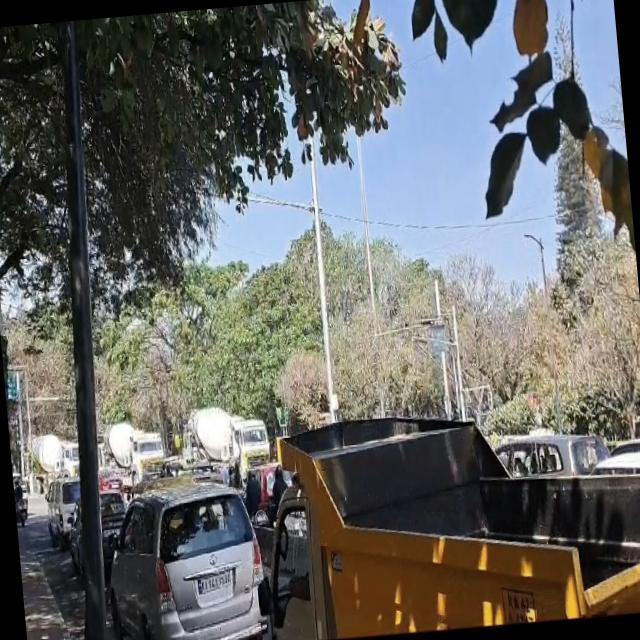cars: (99, 482, 271, 640)
